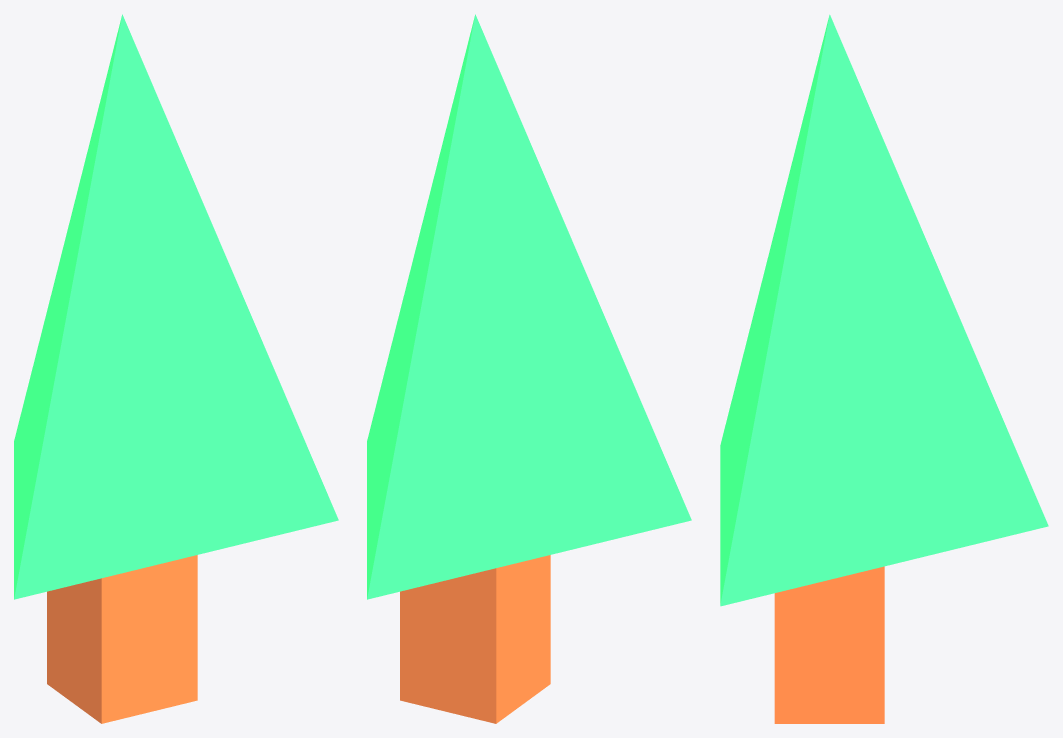
File: Tree2 - Copy.glb
3 views of the same model, side by side, from view 1: azimuth 30°, elevation 25°; view 2: azimuth 150°, elevation 25°; view 3: azimuth 270°, elevation 25° (orthographic).
Parts seen in each view (by area): view 1: Cube; view 2: Cube; view 3: Cube.
Boxes of the visible parts, bbox=[...] form: Cube: bbox=[14, 14, 338, 723]; Cube: bbox=[367, 14, 691, 723]; Cube: bbox=[720, 14, 1048, 723].
Size of the model in its own units: 3.8 by 7.59 by 3.29.
